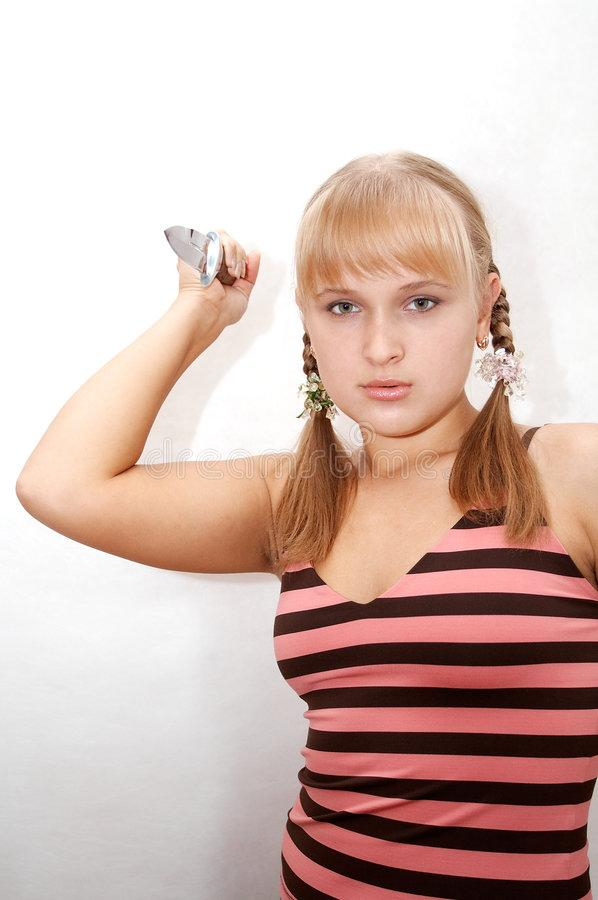criminal: (18, 146, 598, 900)
weapon: (160, 218, 254, 297)
